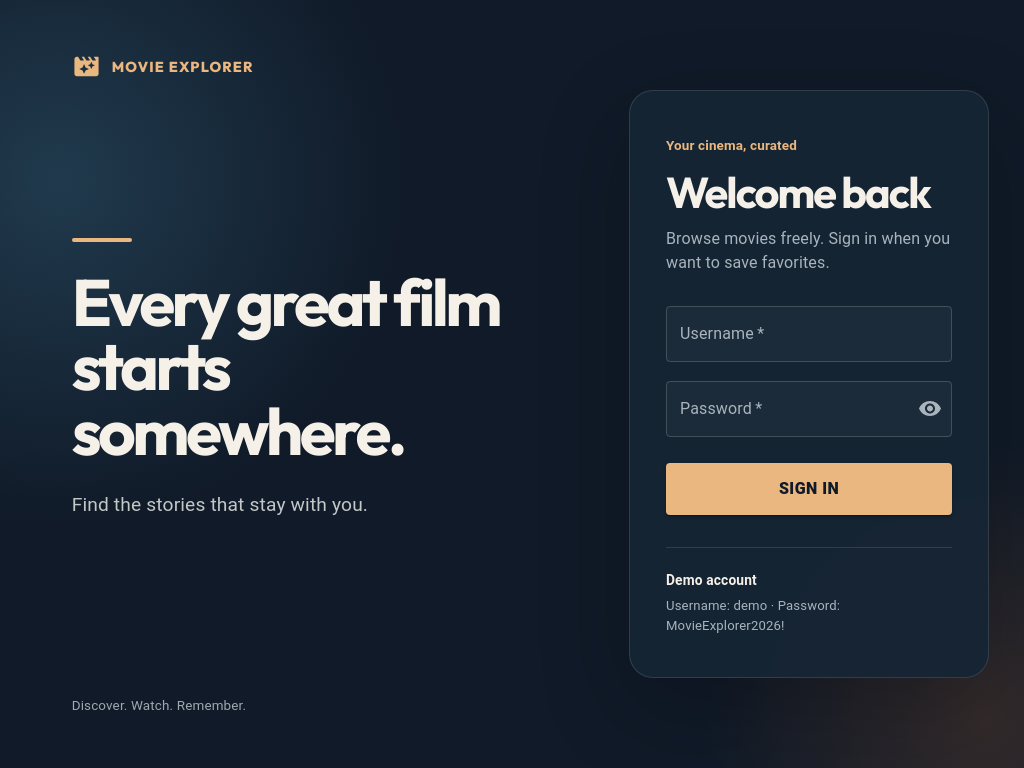
Test case: sign in blocks every credential control and shows a spinner during demo validation
Type "demo" into the field labelled "Username *" at (809, 334), box [666,306,952,362]
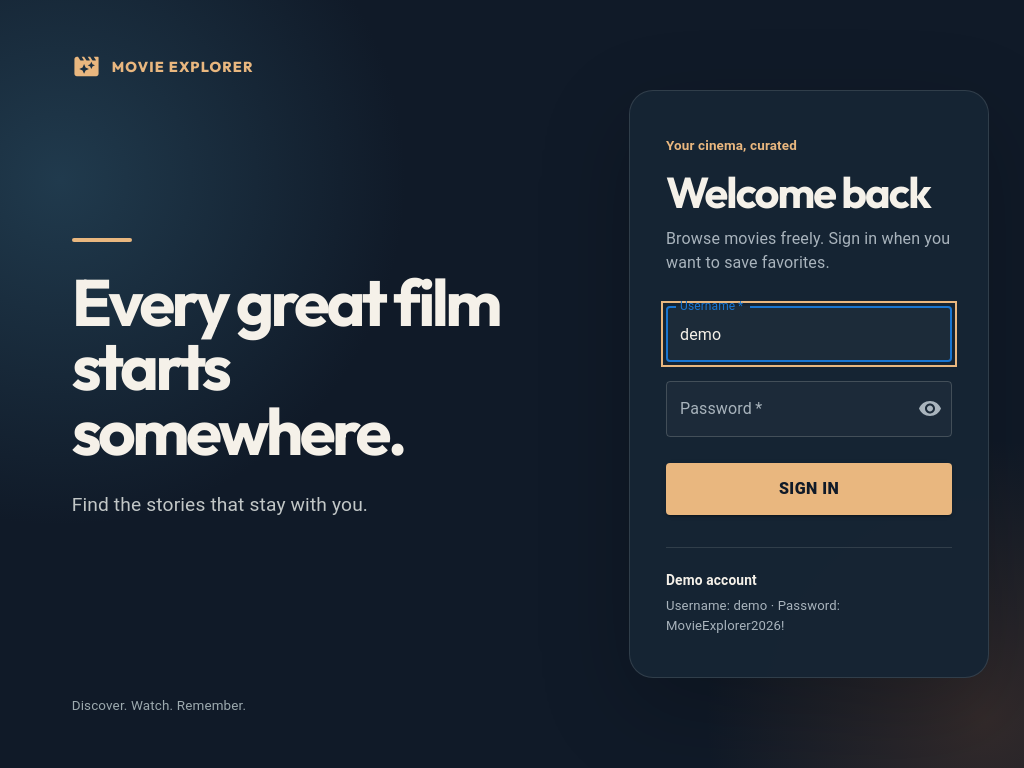
Type "MovieExplorer2026!" into the password field labelled "Password *" at (784, 409), box [666,381,902,437]
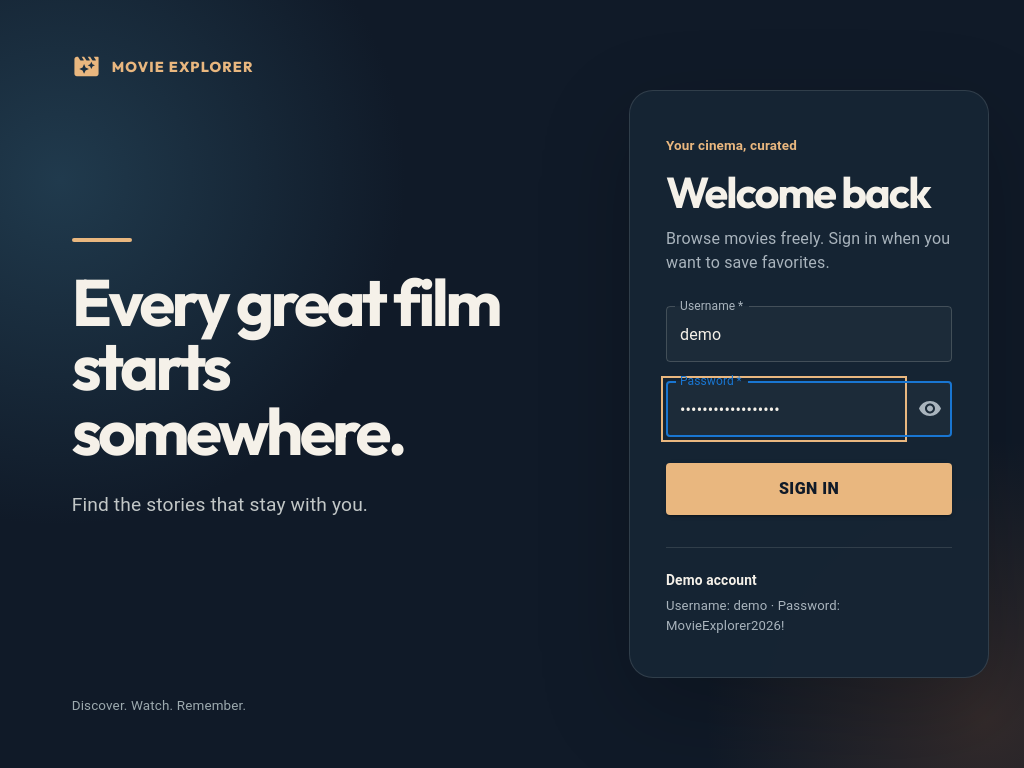
Click the button "Sign in" at (809, 489), box [666,463,952,515]
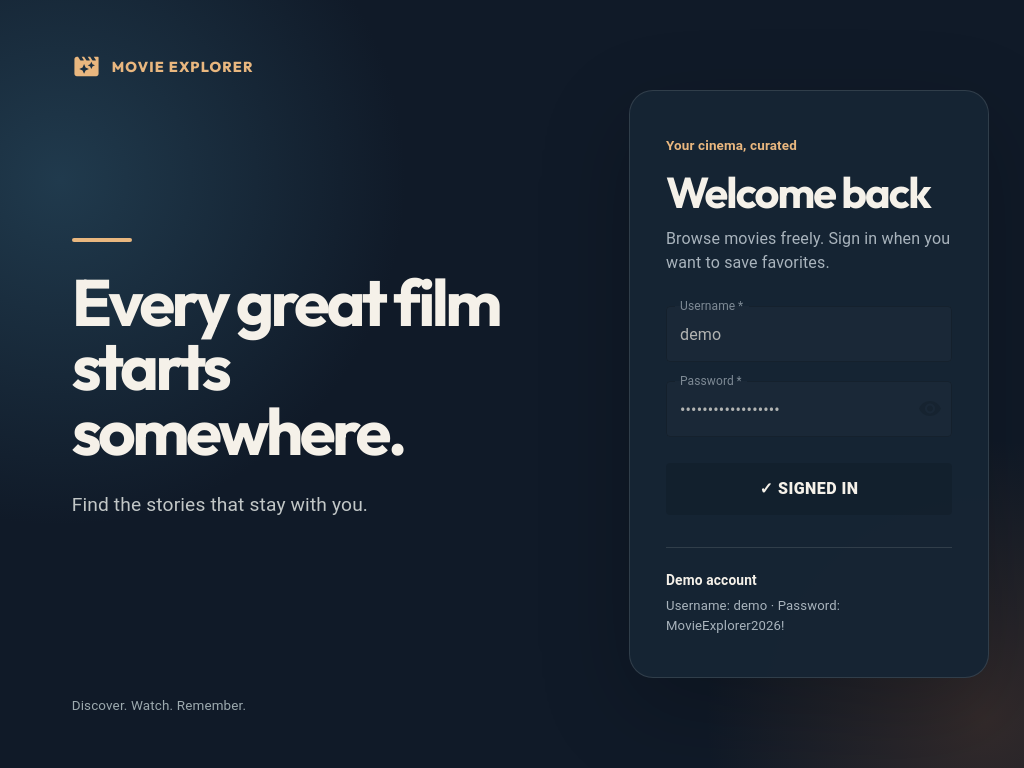
Check: the field labelled "Username *" is disabled, box [666,306,952,362]
Check: the password field labelled "Password *" is disabled, box [666,381,902,437]
Check: the button named "signing in" is disabled, box [666,463,952,515]
